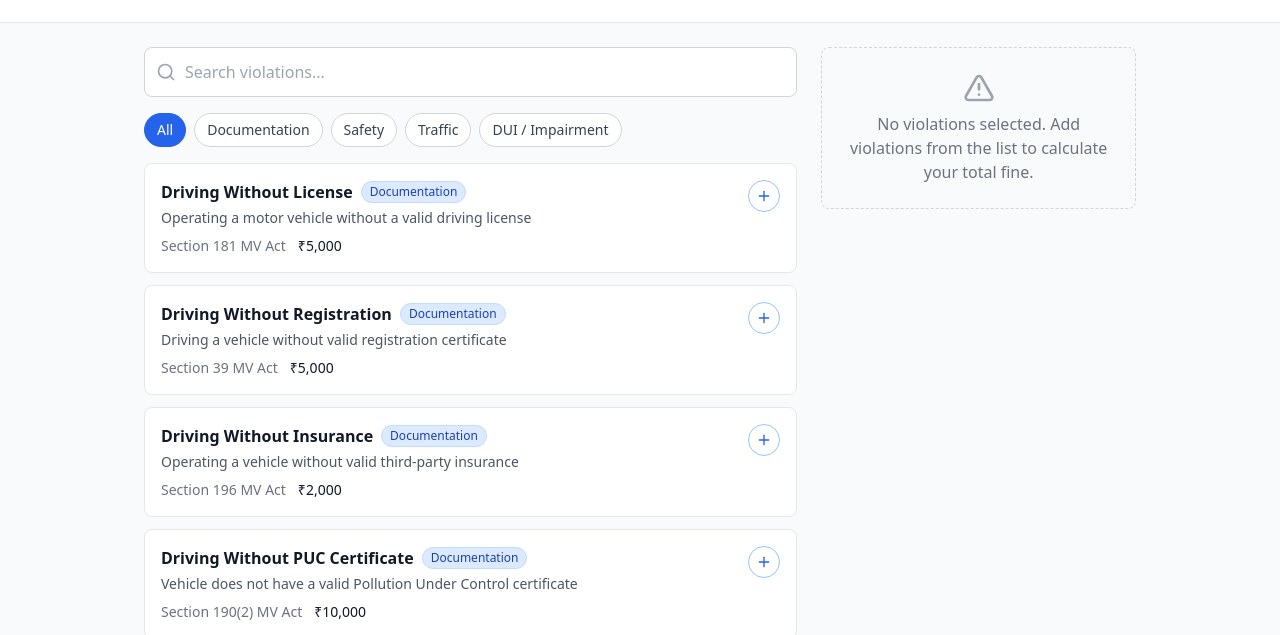
Test: FineCalculator › clears search input when X button is clicked
The width and height of the screenshot is (1280, 635).
Type "helmet" into the field with placeholder "Search violations...". click: (471, 72)
box: [144,47,797,97]
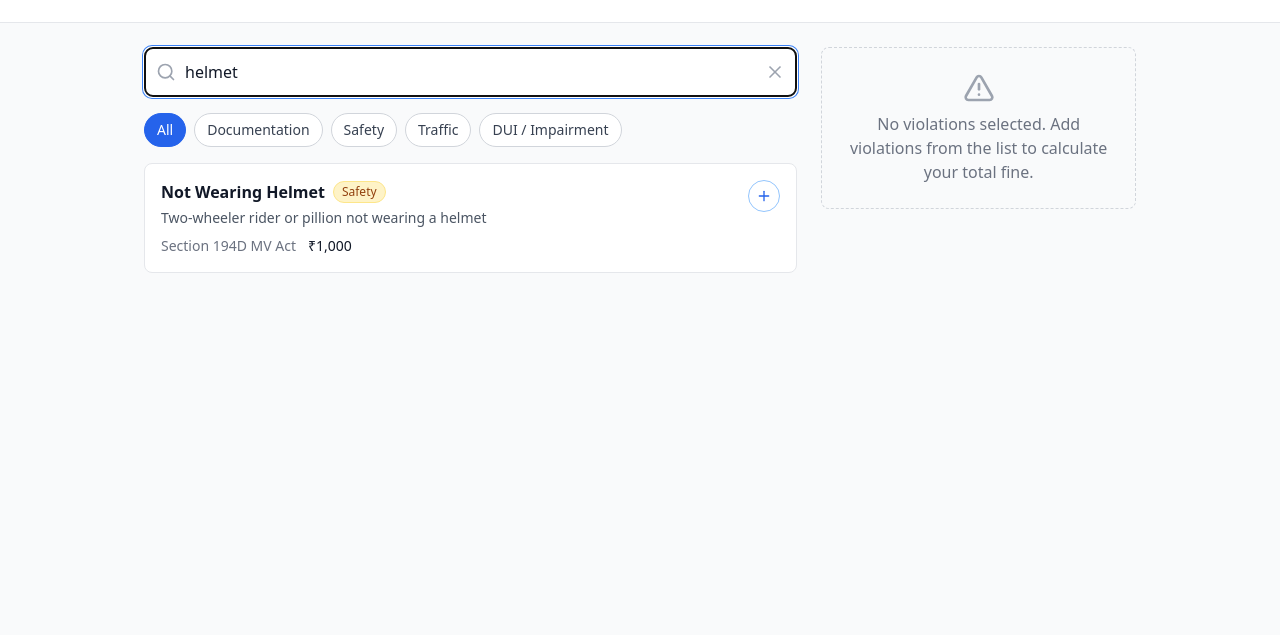
Click the button named "Clear search". click: (775, 72)
box: [765,62,785,82]
(page scrolled)
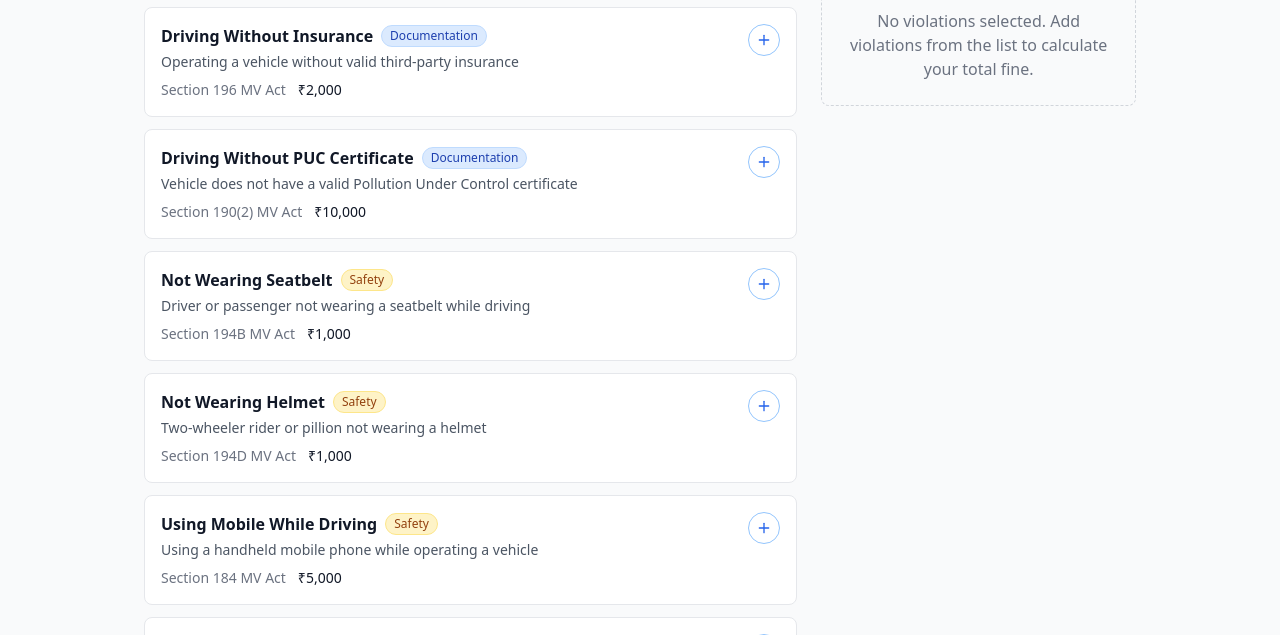
Now the heading "Not Wearing Seatbelt" is shown, box [161,268,332,292]
